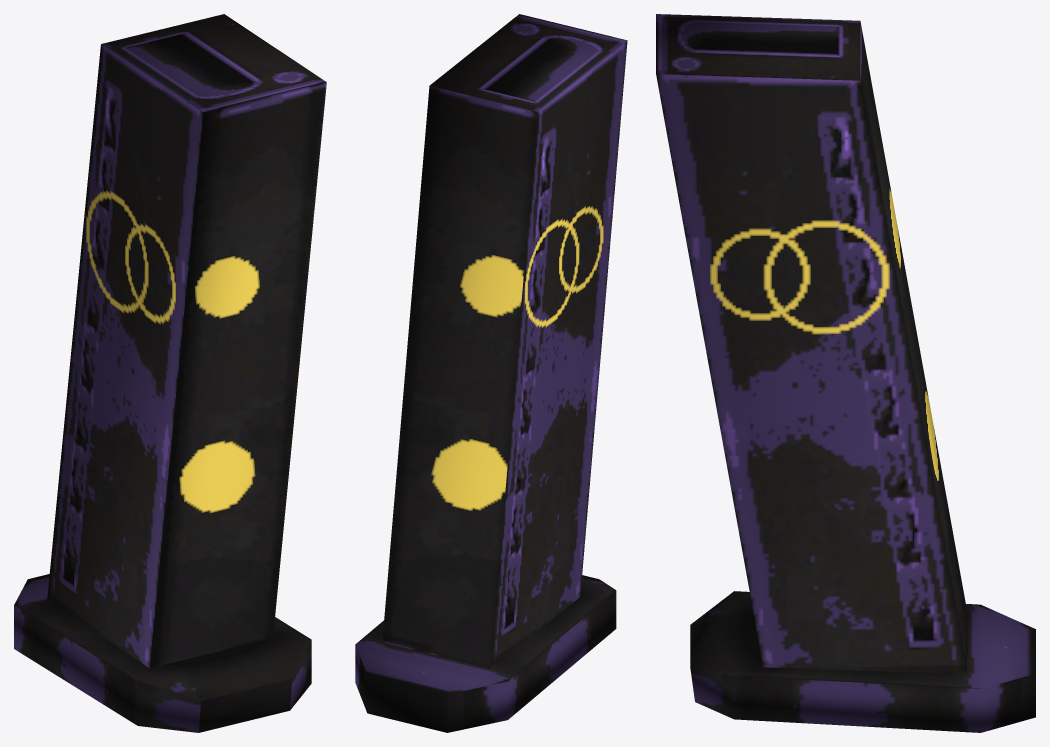
The model's file is mag_9mm_guild.glb.
The picture shows the model from 3 angles, left to right: view 1: azimuth 30°, elevation 25°; view 2: azimuth 150°, elevation 25°; view 3: azimuth 270°, elevation 25°; orthographic projection. The views are drawn at different scales.
Visible parts, largest first — view 1: __lithtech_lh_to_gltf_rh__; view 2: __lithtech_lh_to_gltf_rh__; view 3: __lithtech_lh_to_gltf_rh__.
Part boxes in pixels (x1,y1,x2,y2): __lithtech_lh_to_gltf_rh__: (14,14,326,732); __lithtech_lh_to_gltf_rh__: (355,14,627,732); __lithtech_lh_to_gltf_rh__: (656,14,1035,732).
Bounding box in the file's own units: 2.35 × 8.44 × 4.46.
1 material, 1 textured.
